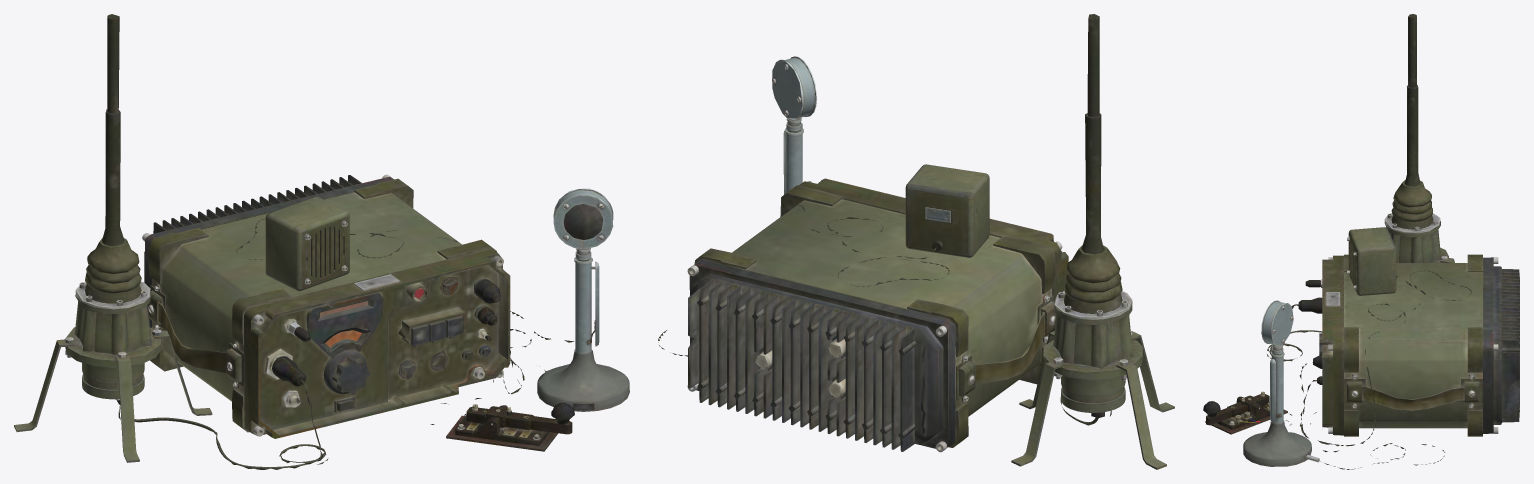
File: vintage_radio_transceiver_lod1.glb
3 views of the same model, side by side, from view 1: azimuth 30°, elevation 25°; view 2: azimuth 150°, elevation 25°; view 3: azimuth 270°, elevation 25° (orthographic). The views are drawn at different scales.
Visible parts, largest first — view 1: vintage_radio_transceiver, vintage_radio_transceiver_antenna, vintage_radio_transceiver_microphone, vintage_radio_transceiver_speaker, vintage_radio_transceiver_morse_key_base, vintage_radio_transceiver_morse_key_arm, vintage_radio_transceiver_dial, vintage_radio_transceiver_cables, vintage_radio_transceiver_antenna_plug_a; view 2: vintage_radio_transceiver, vintage_radio_transceiver_antenna, vintage_radio_transceiver_speaker, vintage_radio_transceiver_microphone, vintage_radio_transceiver_cables; view 3: vintage_radio_transceiver, vintage_radio_transceiver_antenna, vintage_radio_transceiver_microphone, vintage_radio_transceiver_speaker, vintage_radio_transceiver_cables, vintage_radio_transceiver_morse_key_arm, vintage_radio_transceiver_morse_key_base.
Part boxes in pixels (x1,y1,x2,y2): vintage_radio_transceiver: [142, 174, 510, 438]; vintage_radio_transceiver_antenna: [14, 14, 212, 462]; vintage_radio_transceiver_microphone: [537, 188, 629, 411]; vintage_radio_transceiver_speaker: [265, 196, 349, 291]; vintage_radio_transceiver_morse_key_base: [446, 405, 557, 451]; vintage_radio_transceiver_morse_key_arm: [466, 402, 574, 434]; vintage_radio_transceiver_dial: [323, 330, 369, 394]; vintage_radio_transceiver_cables: [118, 218, 574, 469]; vintage_radio_transceiver_antenna_plug_a: [272, 356, 305, 386]; vintage_radio_transceiver: [687, 178, 1068, 452]; vintage_radio_transceiver_antenna: [1011, 14, 1174, 469]; vintage_radio_transceiver_speaker: [905, 164, 989, 257]; vintage_radio_transceiver_microphone: [772, 56, 816, 194]; vintage_radio_transceiver_cables: [658, 205, 1111, 425]; vintage_radio_transceiver: [1322, 254, 1519, 436]; vintage_radio_transceiver_antenna: [1384, 14, 1454, 262]; vintage_radio_transceiver_microphone: [1243, 300, 1319, 466]; vintage_radio_transceiver_speaker: [1347, 227, 1396, 295]; vintage_radio_transceiver_cables: [1267, 270, 1471, 469]; vintage_radio_transceiver_morse_key_arm: [1203, 391, 1269, 425]; vintage_radio_transceiver_morse_key_base: [1205, 396, 1287, 434].
Size of the model in its own units: 0.574 by 0.4344 by 0.4131.
Materials: 2 (2 with a texture image).
